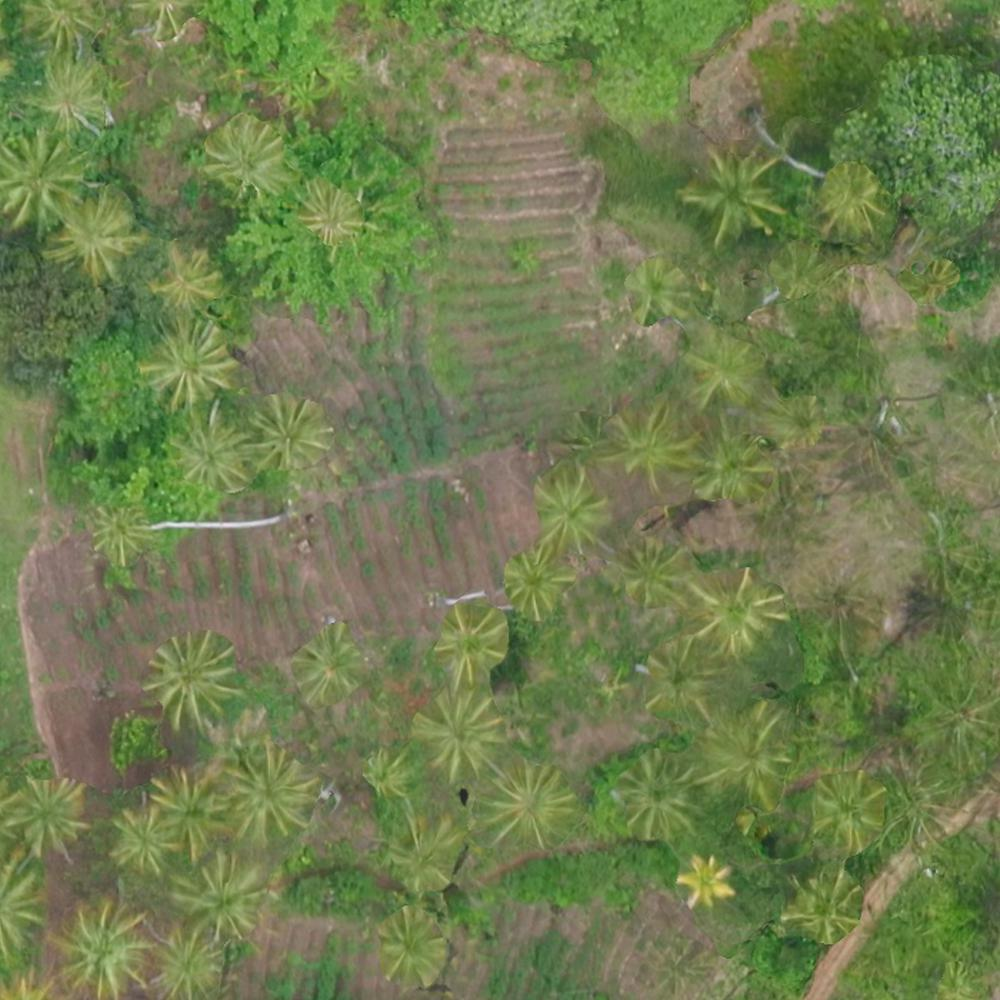Palm: (701, 710, 795, 804), (52, 900, 149, 989), (228, 743, 318, 834), (685, 150, 775, 240), (146, 635, 231, 730), (177, 854, 264, 942), (1, 131, 83, 224), (484, 764, 571, 850), (144, 321, 229, 404), (148, 765, 229, 850), (690, 566, 775, 647), (49, 197, 131, 280), (617, 756, 703, 834), (21, 58, 107, 134), (209, 117, 288, 198), (247, 391, 324, 471), (611, 404, 690, 480), (15, 777, 88, 856), (171, 412, 243, 492), (426, 608, 501, 684), (422, 693, 493, 773), (641, 643, 720, 714), (809, 778, 884, 849), (149, 925, 219, 1000), (611, 541, 685, 609), (150, 240, 221, 310), (695, 429, 764, 501), (788, 873, 860, 942), (102, 805, 171, 874), (292, 632, 360, 702), (536, 481, 609, 546), (684, 332, 754, 398), (294, 179, 367, 238), (384, 909, 443, 979), (90, 498, 155, 560), (817, 166, 881, 227), (629, 258, 694, 318), (508, 550, 570, 609), (675, 848, 735, 908)
